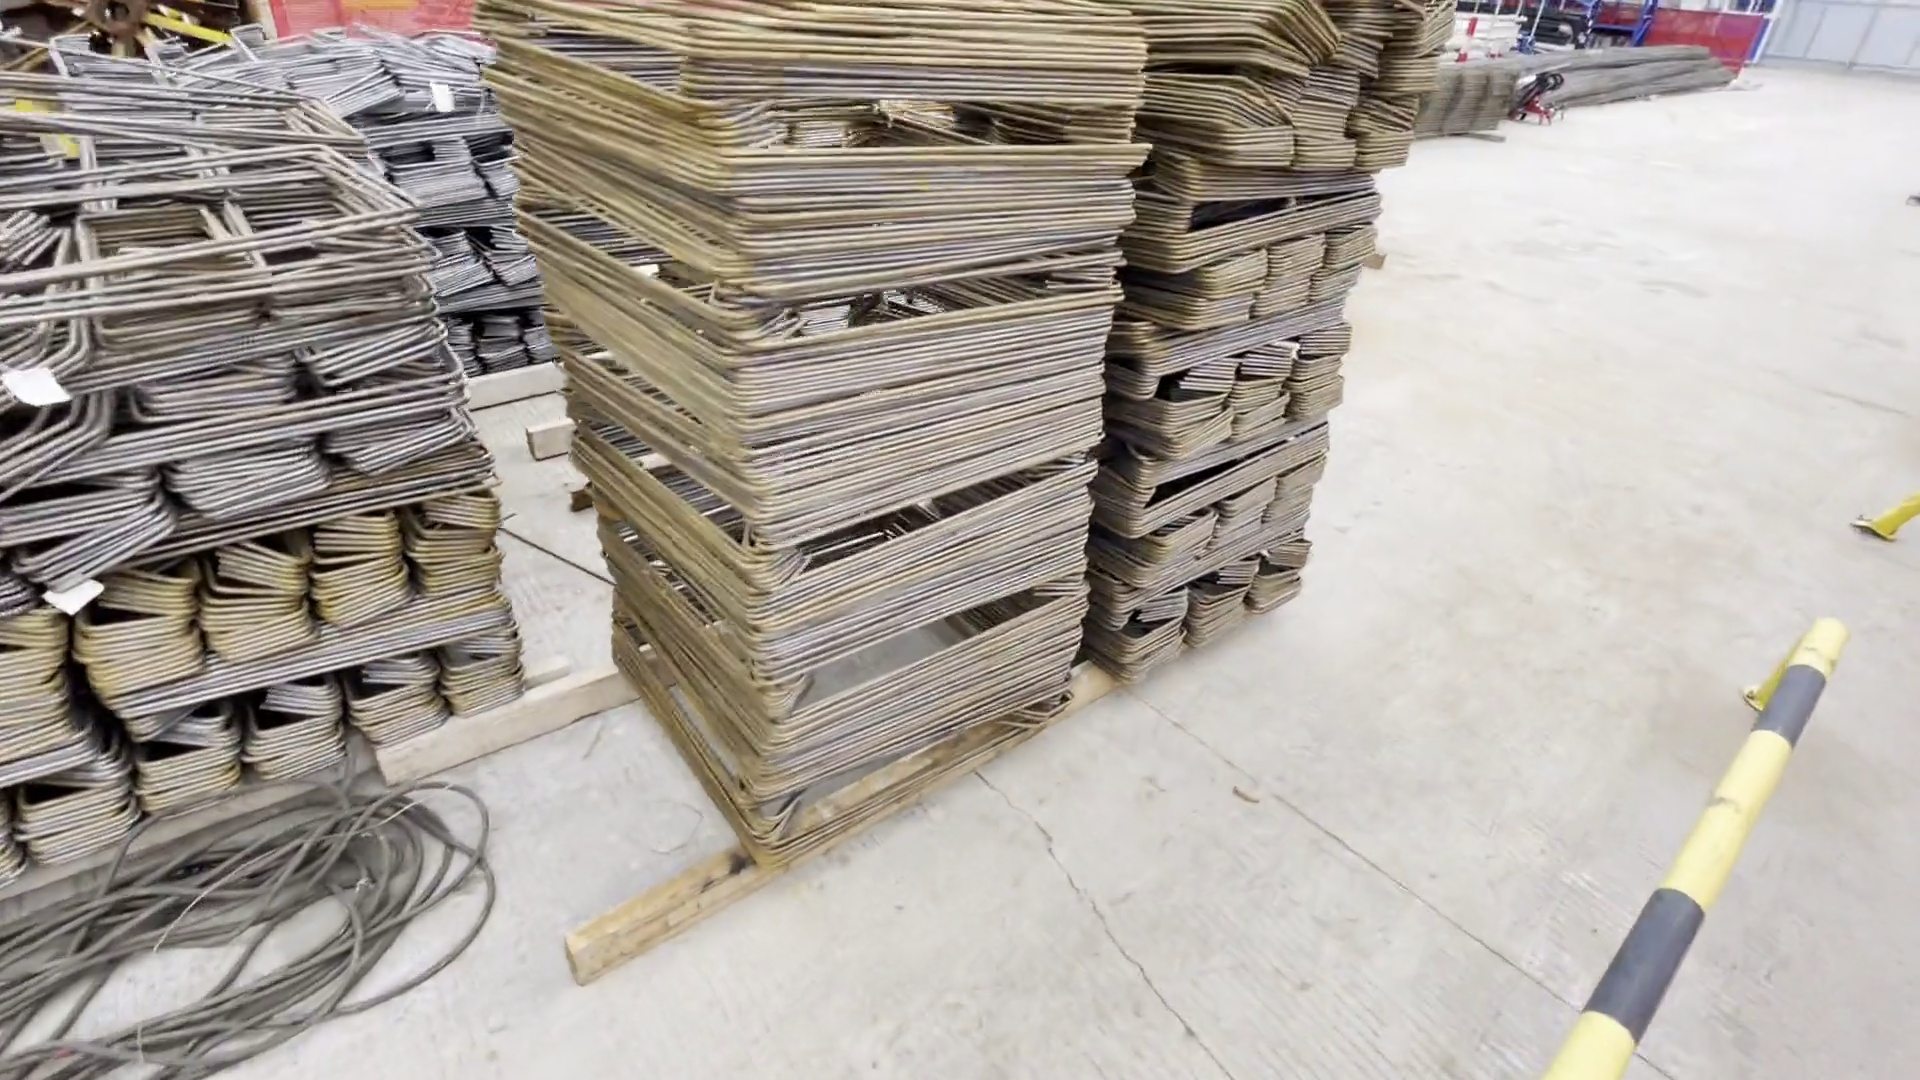cutter: (1511, 71, 1568, 128)
rebar: (1493, 49, 1746, 109)
